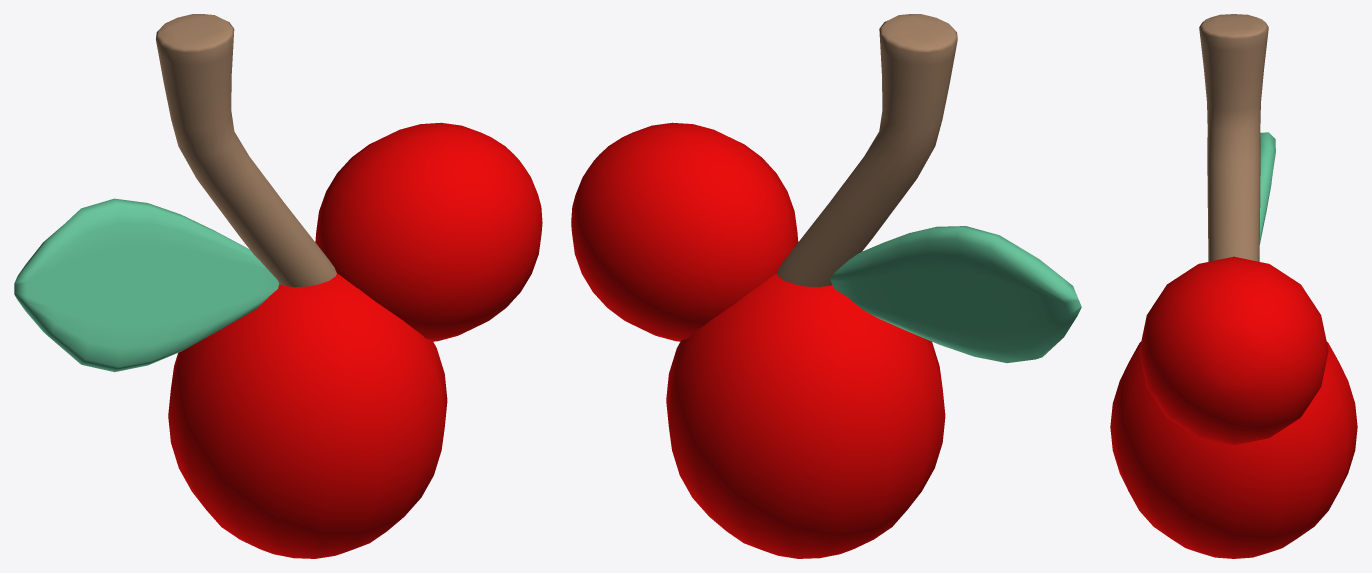
The model's file is berries.fbx.
3 renders of one model, left to right at view 1: azimuth 30°, elevation 25°; view 2: azimuth 150°, elevation 25°; view 3: azimuth 270°, elevation 25°, orthographic. The views are drawn at different scales.
Parts seen in each view (by area): view 1: pSphere3; view 2: pSphere3; view 3: pSphere3.
Boxes of the visible parts, x1,y1,x2,y2 form: pSphere3: [14, 14, 542, 558]; pSphere3: [571, 14, 1081, 558]; pSphere3: [1110, 14, 1357, 558].
Bounding box in the file's own units: 3.76 × 3.88 × 1.82.
